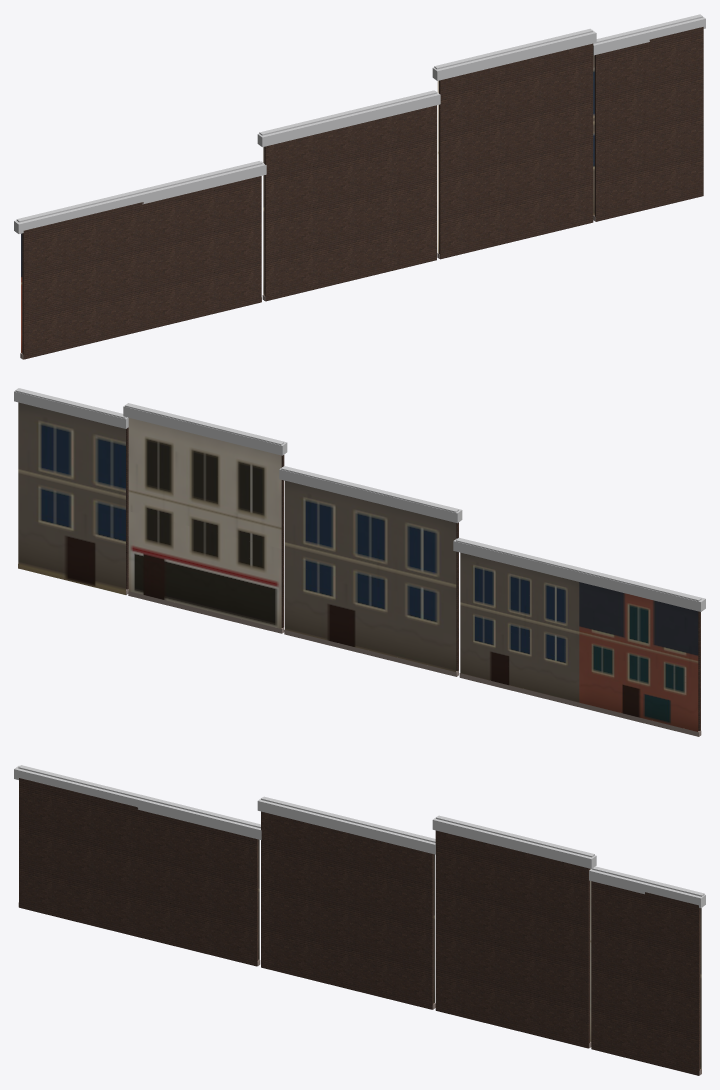
3 renders of one model, top to bottom at view 1: azimuth 30°, elevation 25°; view 2: azimuth 150°, elevation 25°; view 3: azimuth 330°, elevation 25°, orthographic.
Parts seen in each view (by area): view 1: bldg_6000001137_facade12, bldg_6000001137_facade10, bldg_6000001137_facade11, bldg_6000001137_facade9; view 2: bldg_6000001137_facade12, bldg_6000001137_facade10, bldg_6000001137_facade11, bldg_6000001137_facade9; view 3: bldg_6000001137_facade12, bldg_6000001137_facade10, bldg_6000001137_facade11, bldg_6000001137_facade9.
Boxes of the visible parts, bbox=[...] form: bldg_6000001137_facade12: bbox=[14, 161, 266, 359]; bldg_6000001137_facade10: bbox=[432, 28, 596, 259]; bldg_6000001137_facade11: bbox=[257, 90, 440, 301]; bldg_6000001137_facade9: bbox=[593, 14, 705, 221]; bldg_6000001137_facade12: bbox=[453, 537, 705, 736]; bldg_6000001137_facade10: bbox=[123, 403, 287, 633]; bldg_6000001137_facade11: bbox=[279, 466, 462, 676]; bldg_6000001137_facade9: bbox=[14, 388, 128, 594]; bldg_6000001137_facade12: bbox=[14, 765, 261, 966]; bldg_6000001137_facade10: bbox=[432, 815, 596, 1048]; bldg_6000001137_facade11: bbox=[257, 796, 435, 1009]; bldg_6000001137_facade9: bbox=[589, 866, 705, 1075].
Size of the model in its own units: 27.96 by 7.41 by 0.5108.
4 materials, 2 textured.
